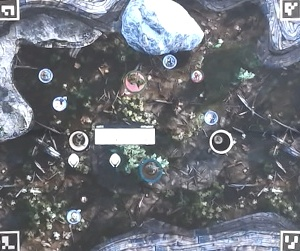black: (210, 130, 232, 153)
brown_turquoise: (139, 160, 162, 183)
pink_green: (124, 68, 147, 91)
white: (65, 131, 88, 154)
